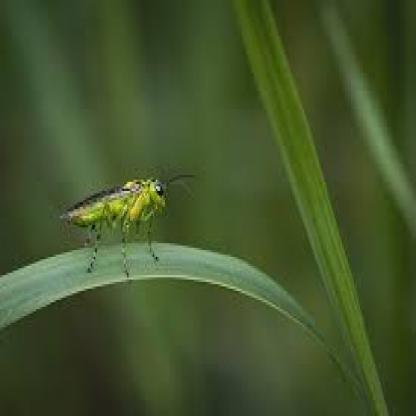sawfly: (48, 165, 199, 283)
